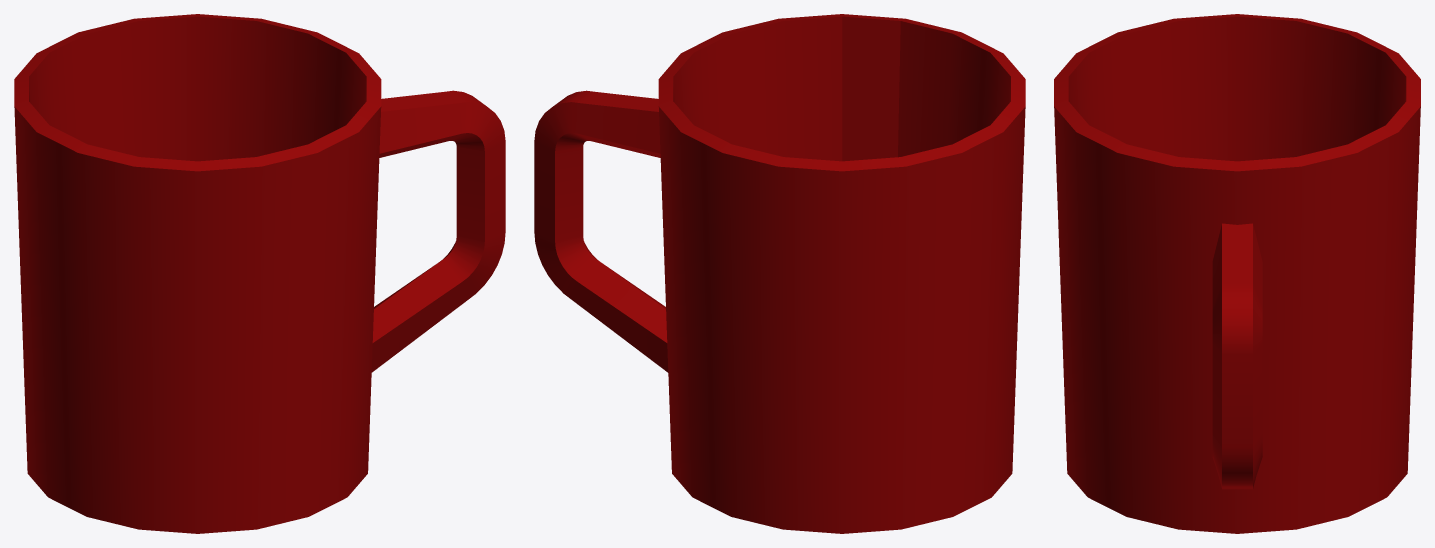
File: mug.FBX
The picture shows the model from 3 angles, left to right: view 1: azimuth 30°, elevation 25°; view 2: azimuth 150°, elevation 25°; view 3: azimuth 270°, elevation 25°; orthographic projection.
Visible parts, largest first — view 1: mug_low; view 2: mug_low; view 3: mug_low.
Boxes of the visible parts, bbox=[...] form: mug_low: bbox=[14, 14, 505, 533]; mug_low: bbox=[534, 14, 1025, 533]; mug_low: bbox=[1054, 14, 1420, 533].
Bounding box in the file's own units: 15.73 × 12.12 × 10.83.
